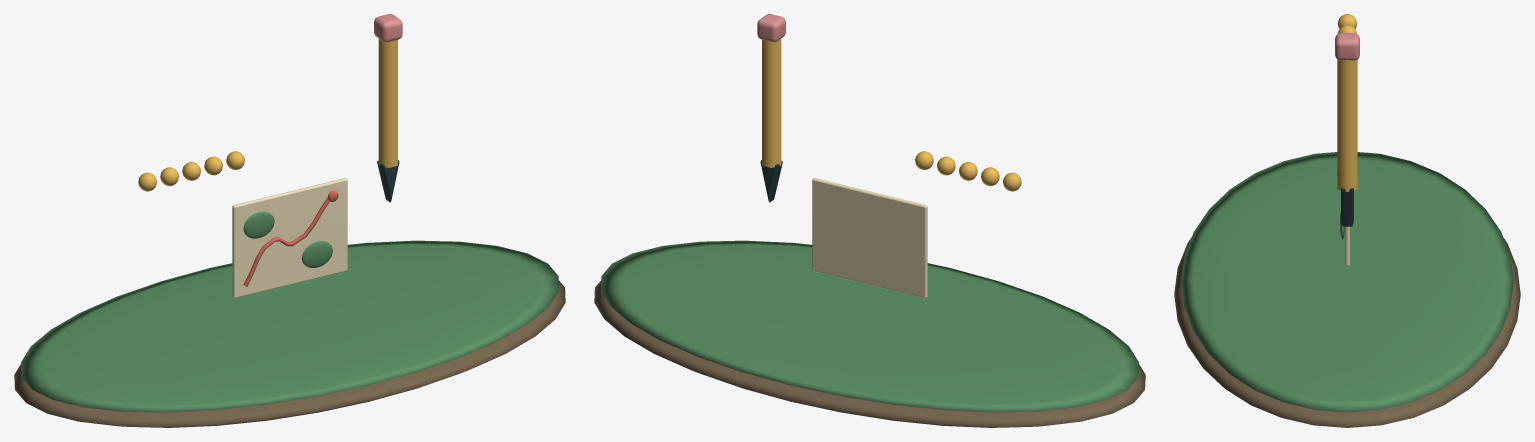
File: complete-second-counted-plan.glb
3 renders of one model, left to right at view 1: azimuth 30°, elevation 25°; view 2: azimuth 150°, elevation 25°; view 3: azimuth 270°, elevation 25°, orthographic. The views are drawn at different scales.
Visible parts, largest first — view 1: complete-second-counted-plan_surface_01, complete-second-counted-plan_surface_00, complete-second-counted-plan_surface_05, complete-second-counted-plan_surface_02, complete-second-counted-plan_surface_06, complete-second-counted-plan_surface_04; view 2: complete-second-counted-plan_surface_01, complete-second-counted-plan_surface_05, complete-second-counted-plan_surface_00, complete-second-counted-plan_surface_02, complete-second-counted-plan_surface_04; view 3: complete-second-counted-plan_surface_01, complete-second-counted-plan_surface_00, complete-second-counted-plan_surface_02, complete-second-counted-plan_surface_04, complete-second-counted-plan_surface_03.
Part boxes in pixels (bbox=[...]): complete-second-counted-plan_surface_01: bbox=[21, 211, 558, 412]; complete-second-counted-plan_surface_00: bbox=[14, 281, 565, 427]; complete-second-counted-plan_surface_05: bbox=[232, 178, 347, 298]; complete-second-counted-plan_surface_02: bbox=[138, 38, 397, 191]; complete-second-counted-plan_surface_06: bbox=[243, 190, 338, 286]; complete-second-counted-plan_surface_04: bbox=[374, 14, 402, 42]; complete-second-counted-plan_surface_01: bbox=[601, 240, 1138, 412]; complete-second-counted-plan_surface_05: bbox=[812, 178, 927, 298]; complete-second-counted-plan_surface_00: bbox=[594, 281, 1145, 427]; complete-second-counted-plan_surface_02: bbox=[762, 38, 1021, 191]; complete-second-counted-plan_surface_04: bbox=[757, 14, 785, 42]; complete-second-counted-plan_surface_01: bbox=[1181, 152, 1513, 412]; complete-second-counted-plan_surface_00: bbox=[1174, 238, 1520, 427]; complete-second-counted-plan_surface_02: bbox=[1337, 14, 1357, 191]; complete-second-counted-plan_surface_04: bbox=[1335, 33, 1359, 60]; complete-second-counted-plan_surface_03: bbox=[1341, 188, 1353, 226].
Size of the model in its own units: 4.56 by 2.58 by 2.5.
